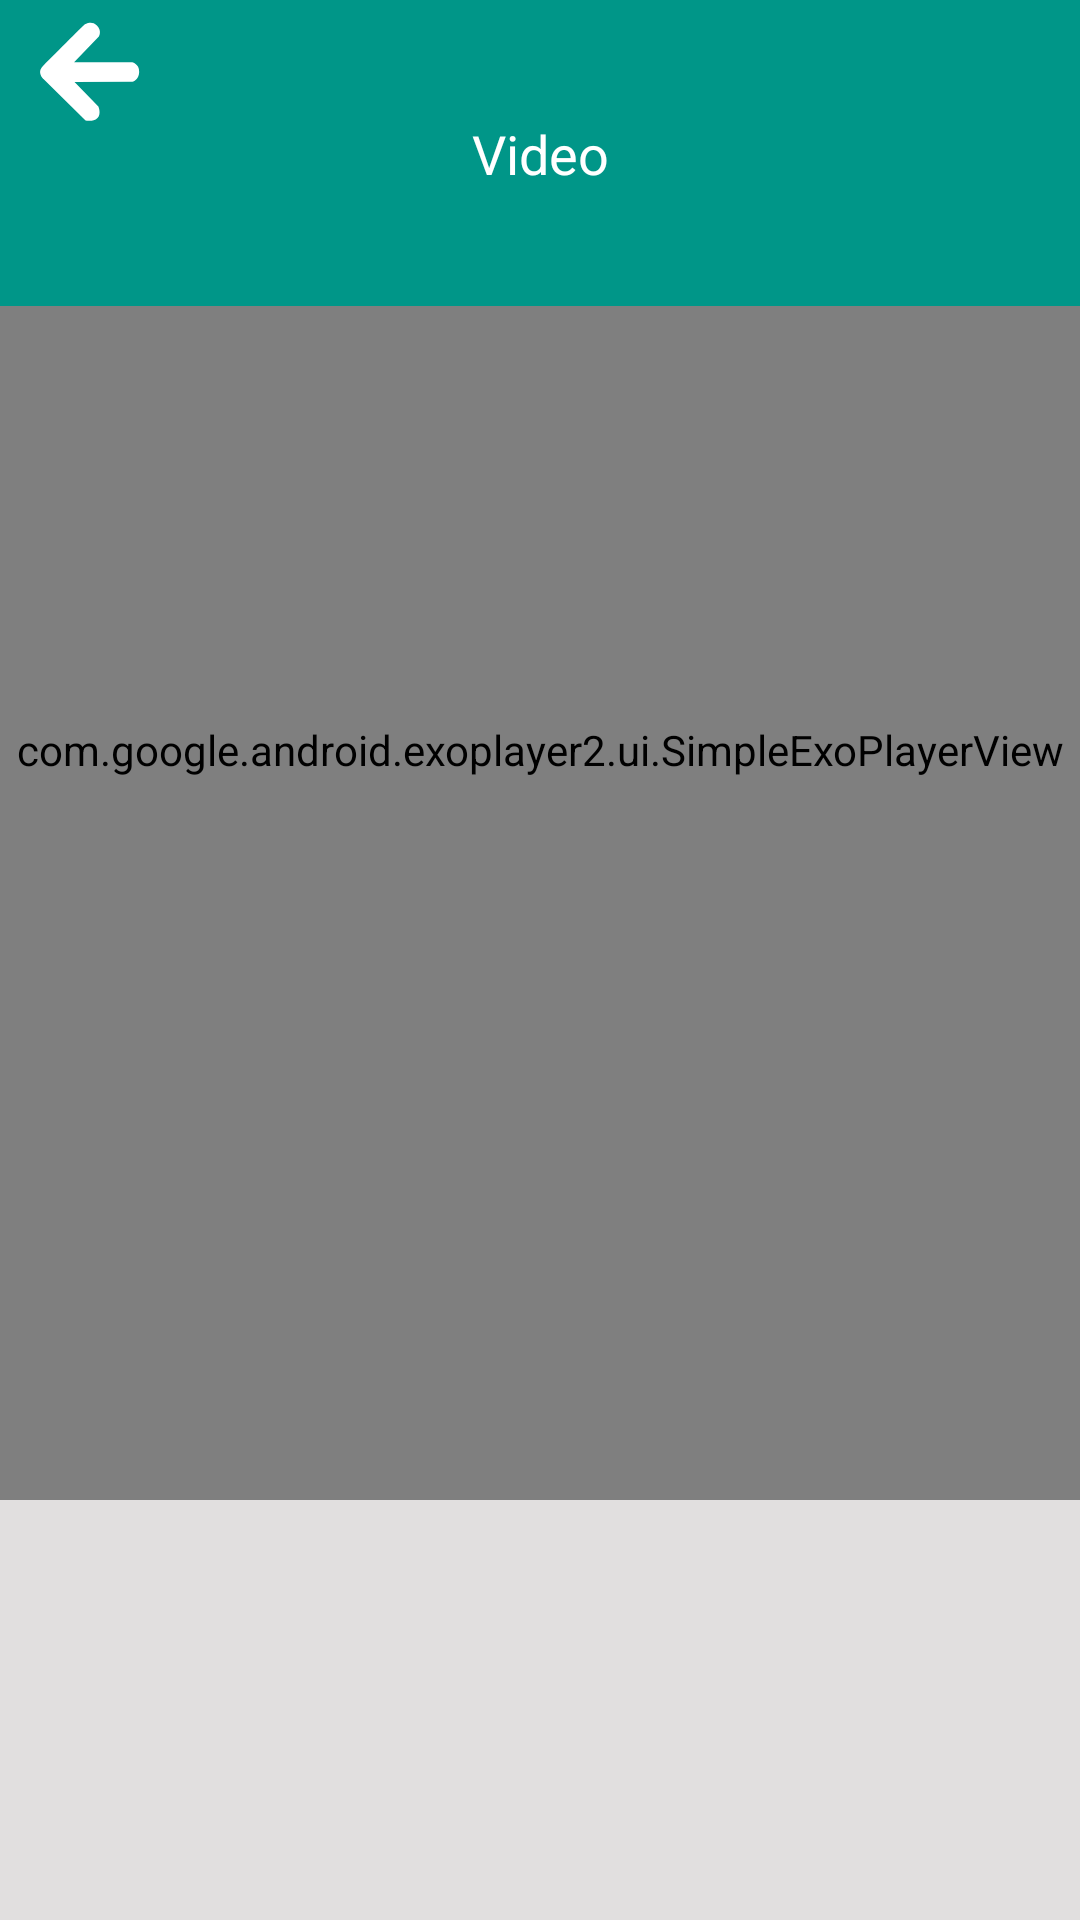

Icons on this 1080 × 1920 Android screen, each with its box as region(x1, y1, x2, y2):
seta: region(40, 22, 140, 121)
